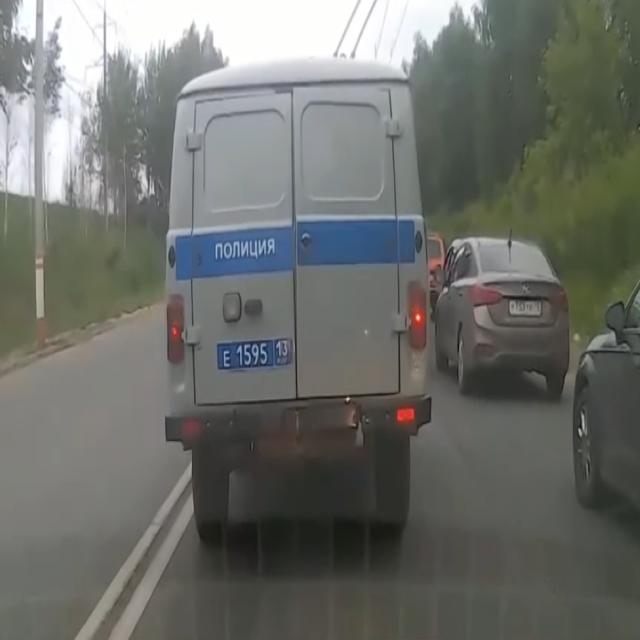non emergency car: (438, 224, 571, 401)
police car: (163, 54, 435, 548)
